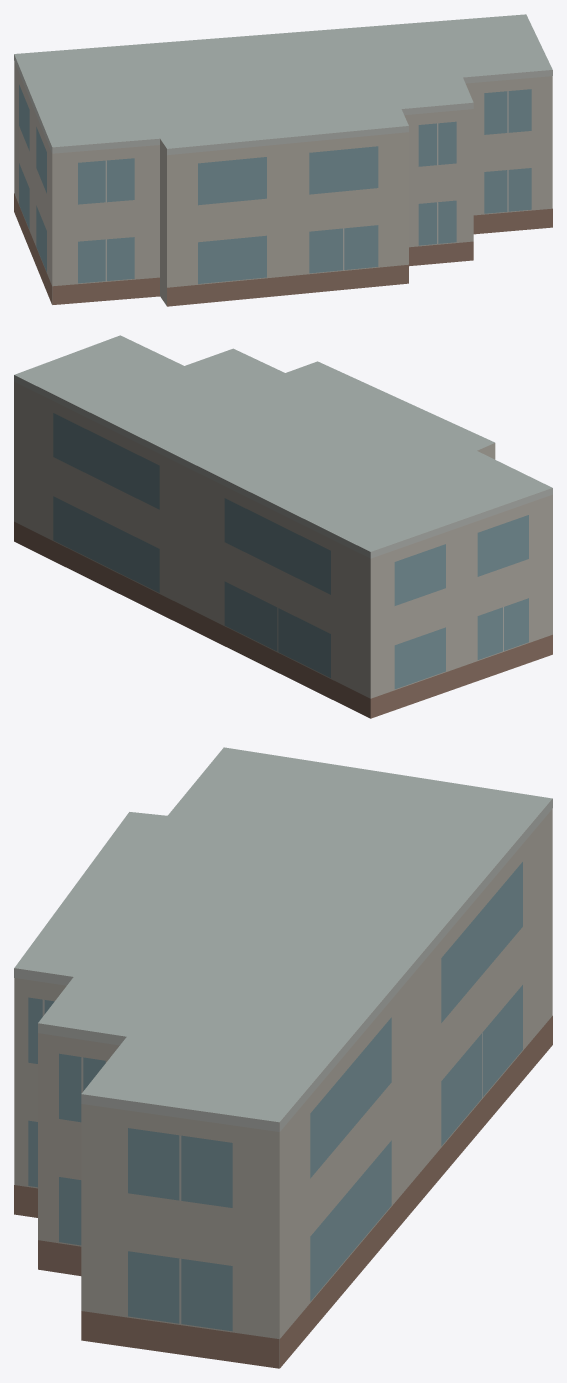
File: survey-upis-32591860.glb
The picture shows the model from 3 angles, top to bottom: view 1: azimuth 30°, elevation 25°; view 2: azimuth 150°, elevation 25°; view 3: azimuth 270°, elevation 25°; orthographic projection. The views are drawn at different scales.
Visible parts, largest first — view 1: survey-upis-32591860.tmp; view 2: survey-upis-32591860.tmp; view 3: survey-upis-32591860.tmp.
Part boxes in pixels (box(x1,y1,x2,y2)): survey-upis-32591860.tmp: box(14, 14, 552, 306); survey-upis-32591860.tmp: box(14, 335, 552, 718); survey-upis-32591860.tmp: box(14, 747, 552, 1368).
Size of the model in its own units: 19.93 by 6.1 by 12.1.
